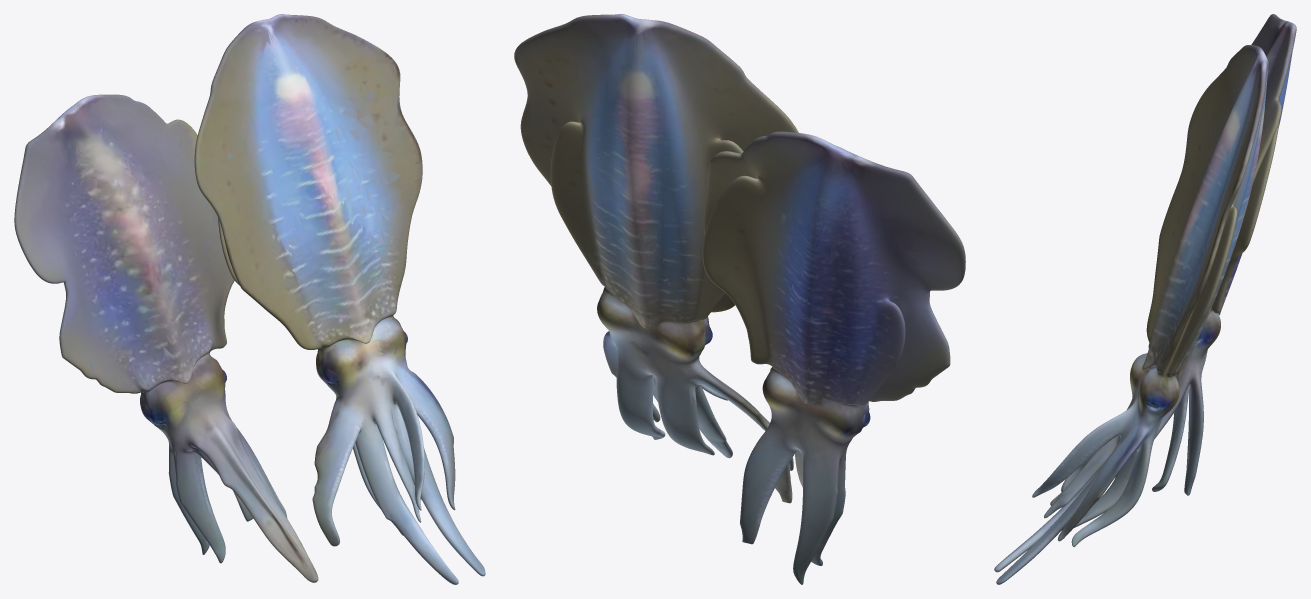
The picture shows the model from 3 angles, left to right: view 1: azimuth 30°, elevation 25°; view 2: azimuth 150°, elevation 25°; view 3: azimuth 270°, elevation 25°; orthographic projection. The views are drawn at different scales.
Parts seen in each view (by area): view 1: node_0; view 2: node_0; view 3: node_0.
Part boxes in pixels (<box>): node_0: <box>14,14,485,584</box>; node_0: <box>514,14,965,584</box>; node_0: <box>994,14,1296,584</box>.
Size of the model in its own units: 0.7711 by 0.9146 by 0.5126.
1 material, 1 textured.
